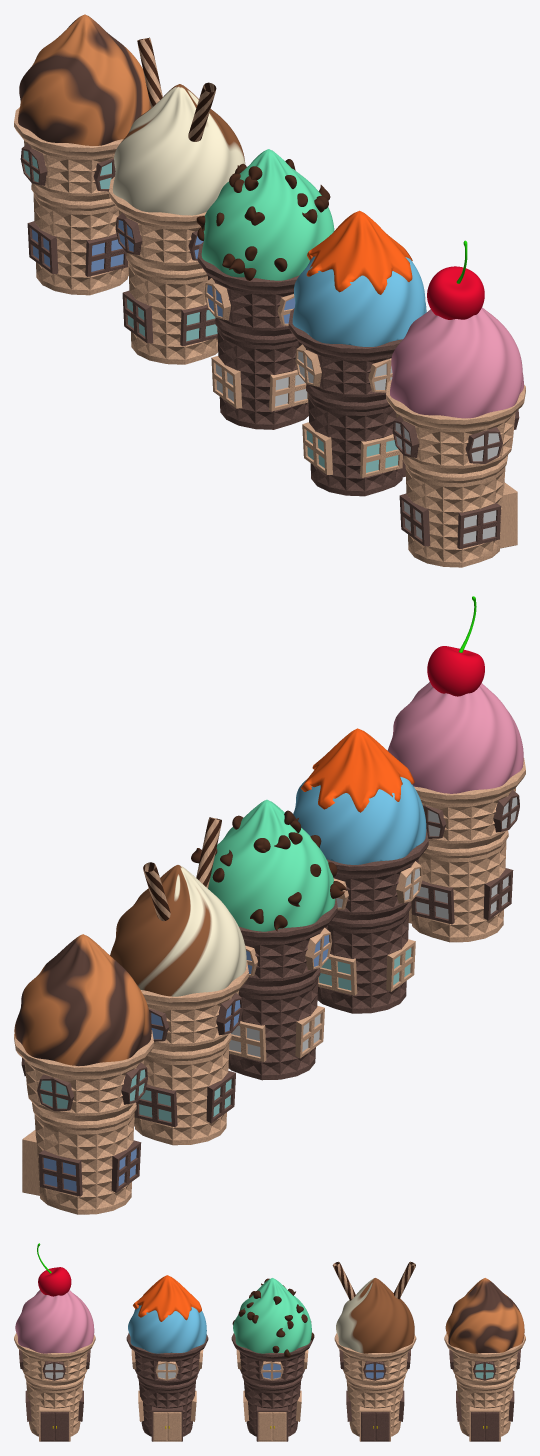
The model's file is Ice Cream House (1).fbx.
3 views of the same model, one above another, from view 1: azimuth 30°, elevation 25°; view 2: azimuth 150°, elevation 25°; view 3: azimuth 270°, elevation 25° (orthographic). The views are drawn at different scales.
Visible parts, largest first — view 1: Sphere.004, Sphere, Sphere.003, Sphere.001, Cone.004, Sphere.002, Cone.003, Cone.001, Cone.002, Cone, Cube.005, Cube.004 (+9 smaller); view 2: Sphere.004, Sphere, Sphere.001, Sphere.003, Cone.001, Sphere.002, Cone.004, Cone, Cone.003, Cone.002, Cube.002, Cube.005 (+9 smaller); view 3: Sphere, Sphere.004, Sphere.003, Sphere.001, Sphere.002, Cone.001, Cone, Cone.003, Cone.004, Cone.002, Portão.002, Portão (+13 smaller).
Boxes of the visible parts, x1,y1,x2,y2 form: Sphere.004: (390, 240, 523, 418); Sphere: (112, 37, 245, 215); Sphere.003: (292, 210, 426, 346); Sphere.001: (18, 14, 150, 145); Cone.004: (386, 379, 525, 567); Sphere.002: (201, 149, 334, 280); Cone.003: (288, 308, 403, 496); Cone.001: (14, 107, 128, 295); Cone.002: (197, 242, 308, 429); Cone: (109, 177, 218, 364); Cube.005: (399, 493, 500, 548); Cube.004: (302, 422, 402, 477); Sphere.004: (387, 596, 523, 793); Sphere: (110, 817, 246, 996); Sphere.001: (14, 934, 151, 1066); Sphere.003: (293, 728, 426, 864); Cone.001: (14, 1030, 153, 1214); Sphere.002: (208, 799, 335, 931); Cone.004: (410, 758, 525, 942); Cone: (134, 961, 248, 1145); Cone.003: (317, 829, 428, 1013); Cone.002: (228, 898, 337, 1080); Cube.002: (38, 1140, 141, 1196); Cube.005: (411, 868, 513, 924); Sphere: (332, 1261, 415, 1353); Sphere.004: (15, 1243, 94, 1353); Sphere.003: (128, 1275, 206, 1353); Sphere.001: (445, 1278, 524, 1353); Sphere.002: (233, 1278, 311, 1353); Cone.001: (444, 1333, 525, 1436); Cone: (334, 1333, 416, 1436); Cone.003: (126, 1333, 208, 1436); Cone.004: (14, 1333, 95, 1436); Cone.002: (231, 1333, 312, 1436); Portão.002: (256, 1406, 288, 1441); Portão: (359, 1406, 390, 1441).
Bounding box in the file's own units: 220 × 513 × 1298.
15 materials, 4 textured.
